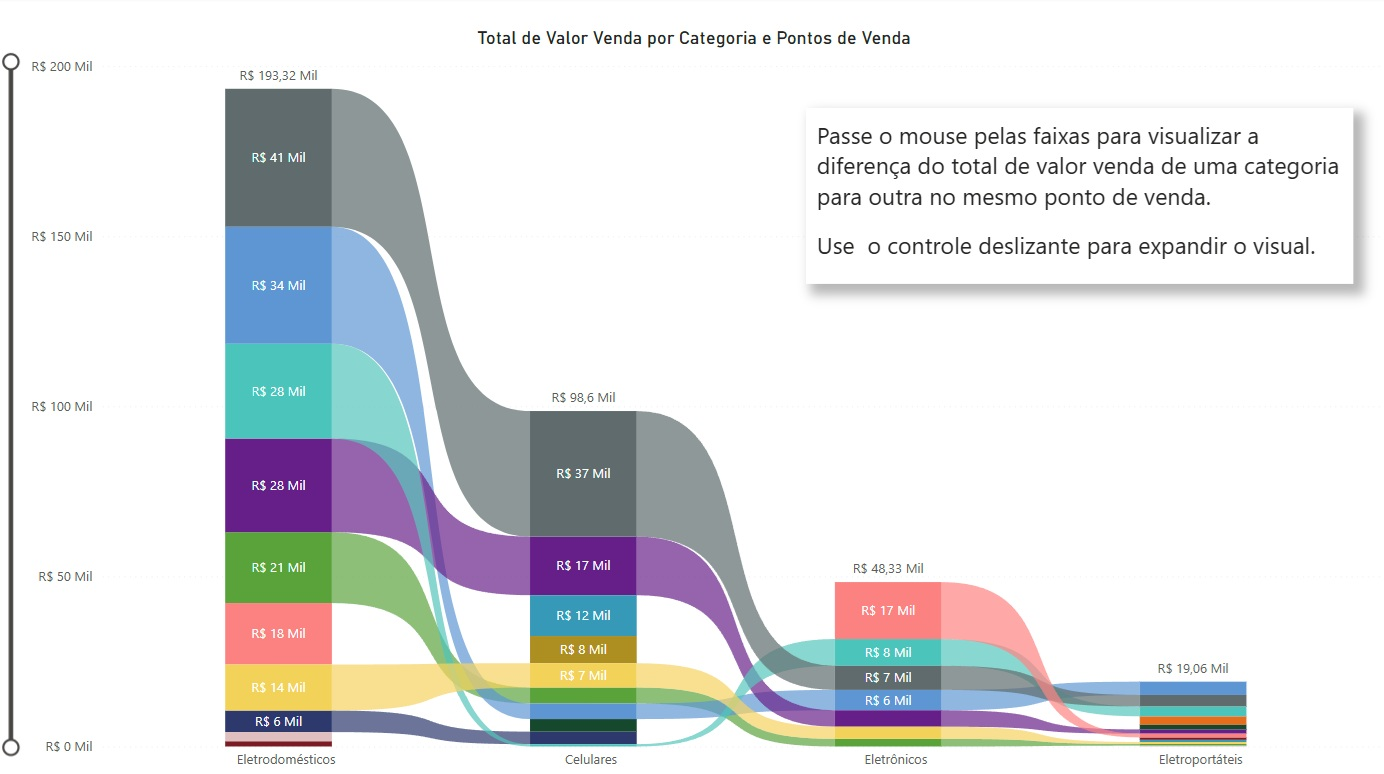

The page's visual inventory and layout, read from the dashboard file:
{"tool":"powerbi","page":{"name":"Faixas de Vendas por Categoria e Pontos de Venda","canvas":[1280,720],"ordinal":3},"visuals":[{"type":"ribbonChart","title":"Total de Valor Venda por Categoria e Pontos de Venda","fields":{"Y":["Sum(DadosComerciais.ValorVenda)"],"Category":["DadosComerciais.Categoria"],"Series":["DadosComerciais.Loja"]},"box":[0,27.8,1280,692.6],"z":0},{"type":"textbox","box":[743.6,102,504,162.3],"z":1}]}

Visuals, with their boxes in screenshot pixels (x1, y1, x2, y2), scaled from the page's 1280x720 canvas onto the 1384x774 screenshot:
"Total de Valor Venda por Categoria e Pontos de Venda" ribbonChart: {"x1": 0, "y1": 30, "x2": 1383, "y2": 773}
textbox: {"x1": 804, "y1": 110, "x2": 1349, "y2": 284}
